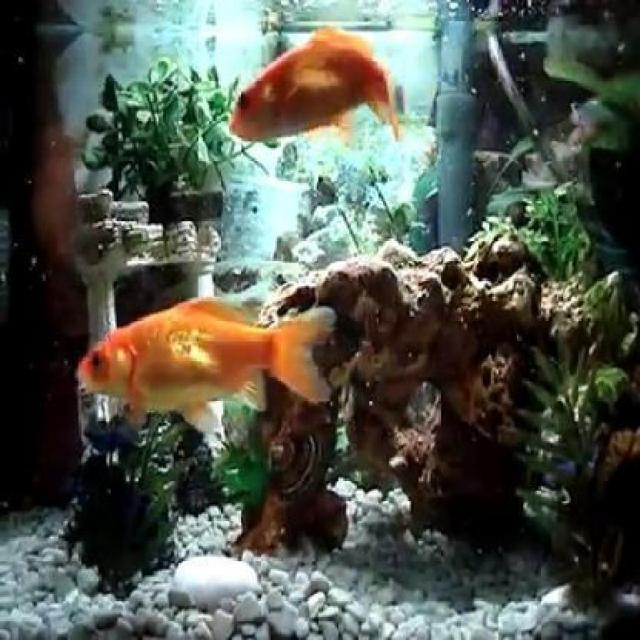GoldFish: (77, 296, 334, 432), (229, 33, 400, 142)
